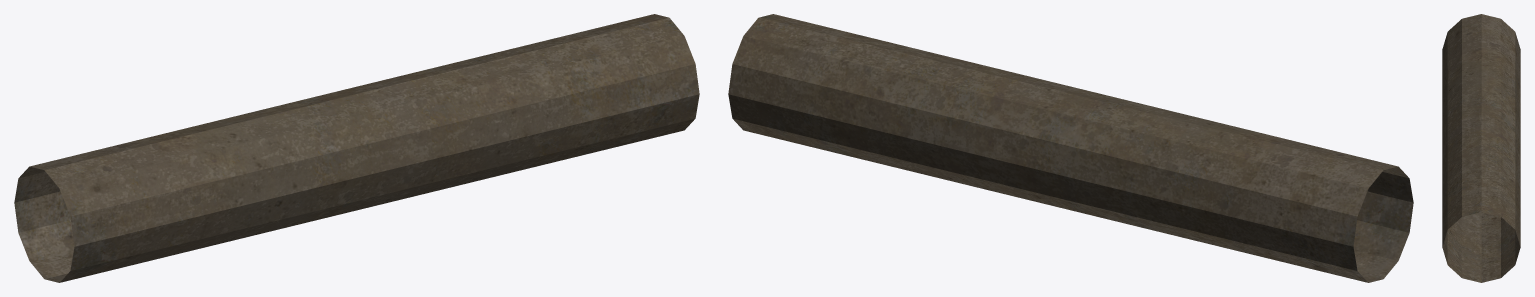
File: middlepiece_closed.obj
3 views of the same model, side by side, from view 1: azimuth 30°, elevation 25°; view 2: azimuth 150°, elevation 25°; view 3: azimuth 270°, elevation 25° (orthographic). The views are drawn at different scales.
Parts seen in each view (by area): view 1: middlepiece_closed; view 2: middlepiece_closed; view 3: middlepiece_closed.
Boxes of the visible parts, <box> form: middlepiece_closed: <box>14,14,699,282</box>; middlepiece_closed: <box>728,14,1413,282</box>; middlepiece_closed: <box>1442,14,1520,282</box>.
Bounding box in the file's own units: 3 × 0.5 × 0.5.
1 material, 1 textured.
